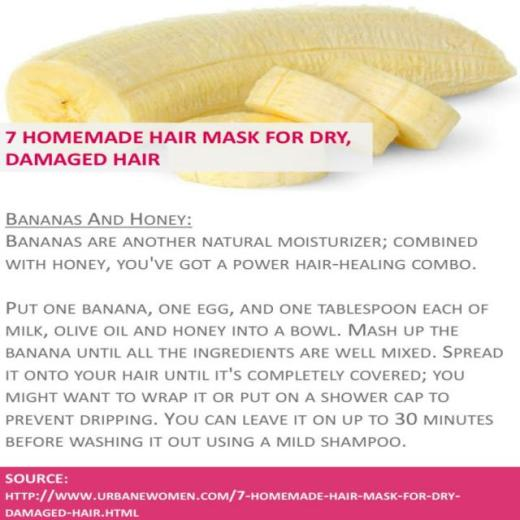Banana: (3, 2, 513, 146), (248, 66, 398, 154), (320, 61, 462, 150), (172, 110, 327, 188)
